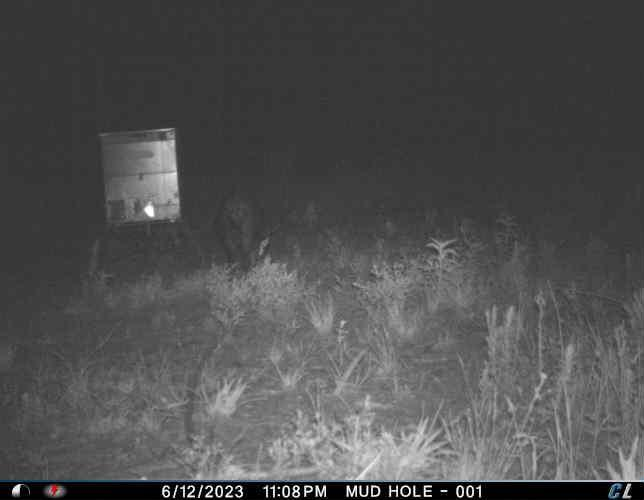Hog: (216, 187, 279, 275)
